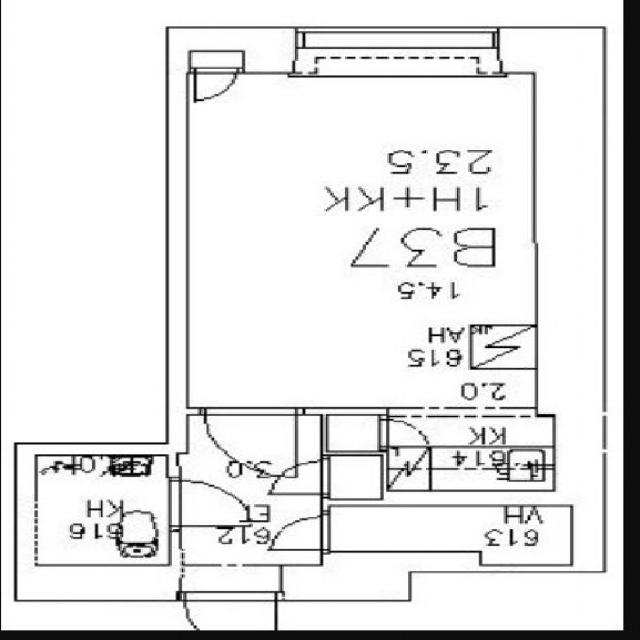door: (205, 408, 295, 476), (168, 479, 250, 527), (268, 457, 330, 494), (270, 514, 330, 548), (378, 418, 428, 446), (194, 67, 235, 100)
